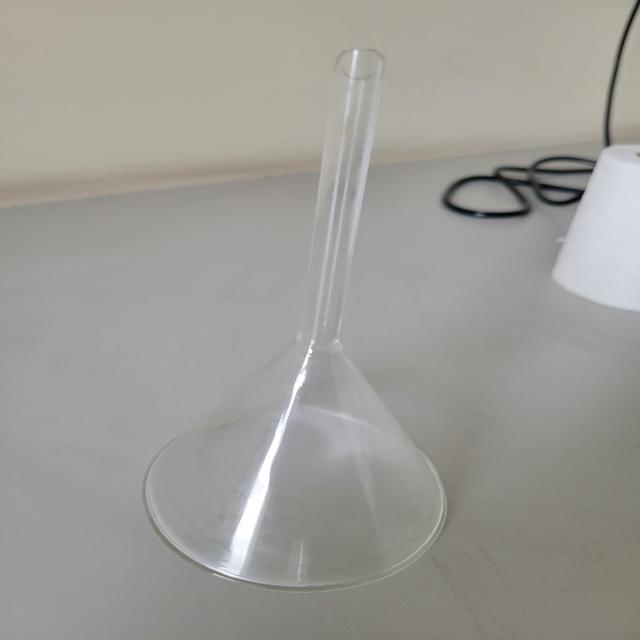Funnel: (102, 24, 538, 612)
